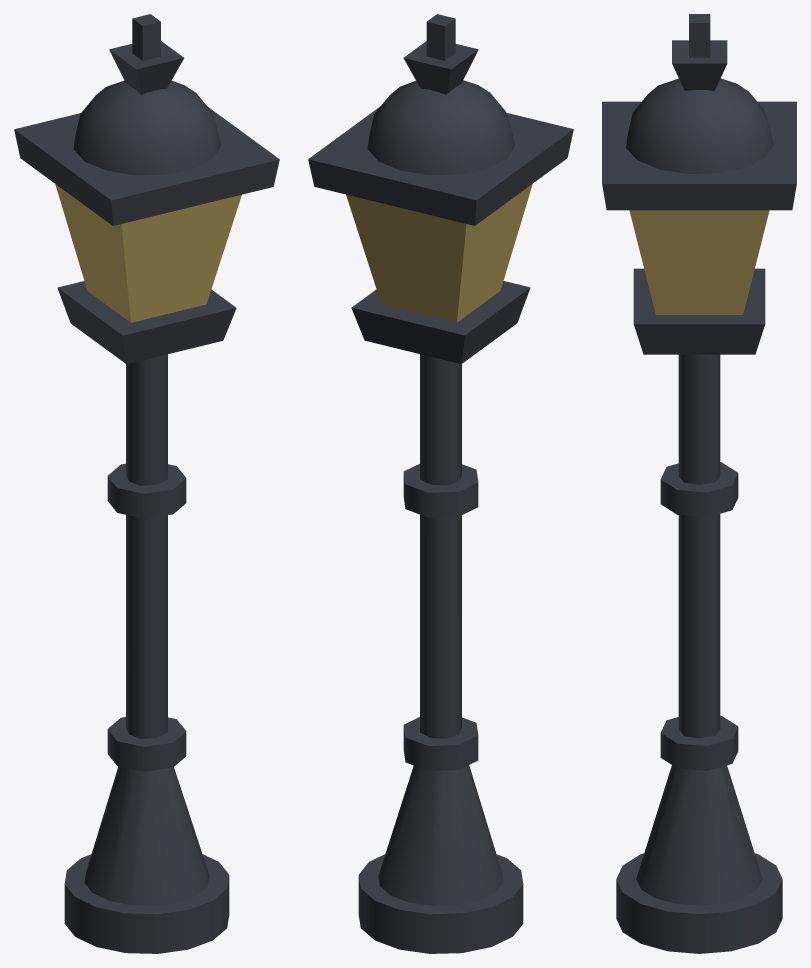
The model's file is lamp_v3.fbx.
3 views of the same model, side by side, from view 1: azimuth 30°, elevation 25°; view 2: azimuth 150°, elevation 25°; view 3: azimuth 270°, elevation 25° (orthographic).
Parts seen in each view (by area): view 1: lamp_v3; view 2: lamp_v3; view 3: lamp_v3.
Part boxes in pixels (x1,y1,x2,y2): lamp_v3: [14, 14, 279, 953]; lamp_v3: [308, 14, 573, 953]; lamp_v3: [602, 14, 796, 953].
Bounding box in the file's own units: 71.39 × 364 × 71.39.
